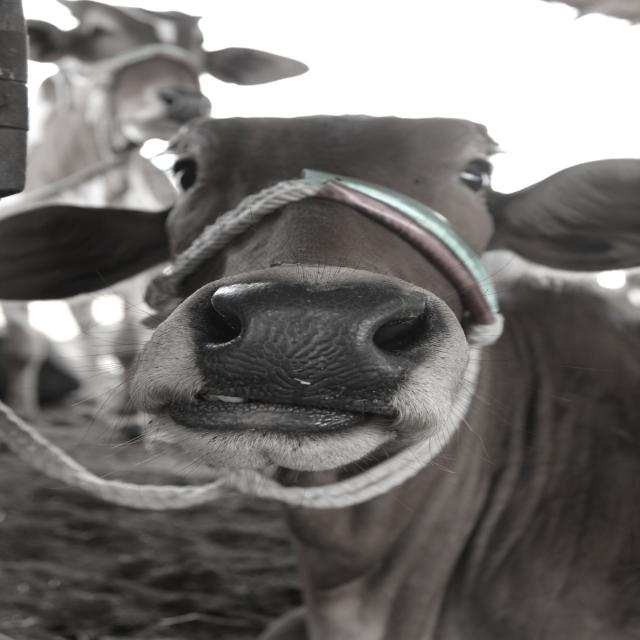muzzles: (180, 278, 446, 426)
